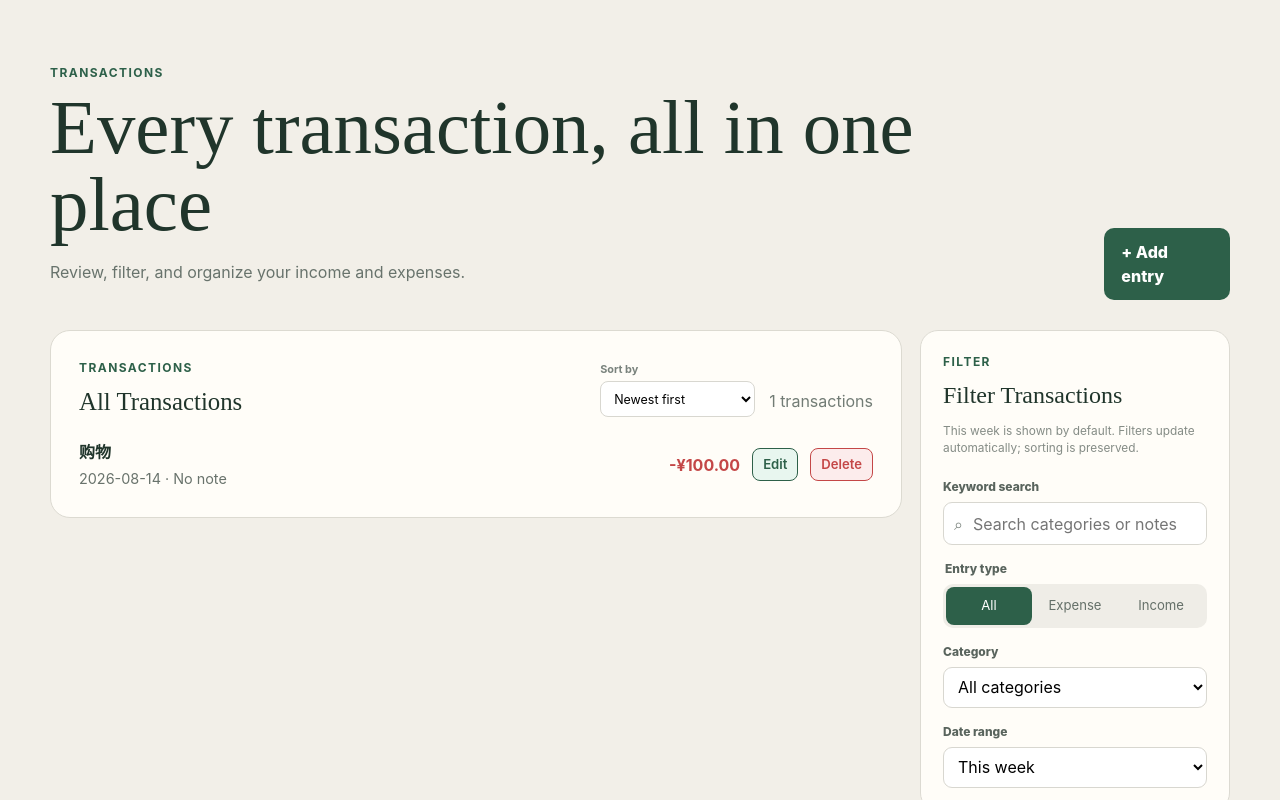
it: RecordsView › 点击编辑后才显示编辑弹层
The image size is (1280, 800).
Step 1. Click the button with test id "edit-transaction" → click(775, 465), box x1=752 y1=448 x2=798 y2=481
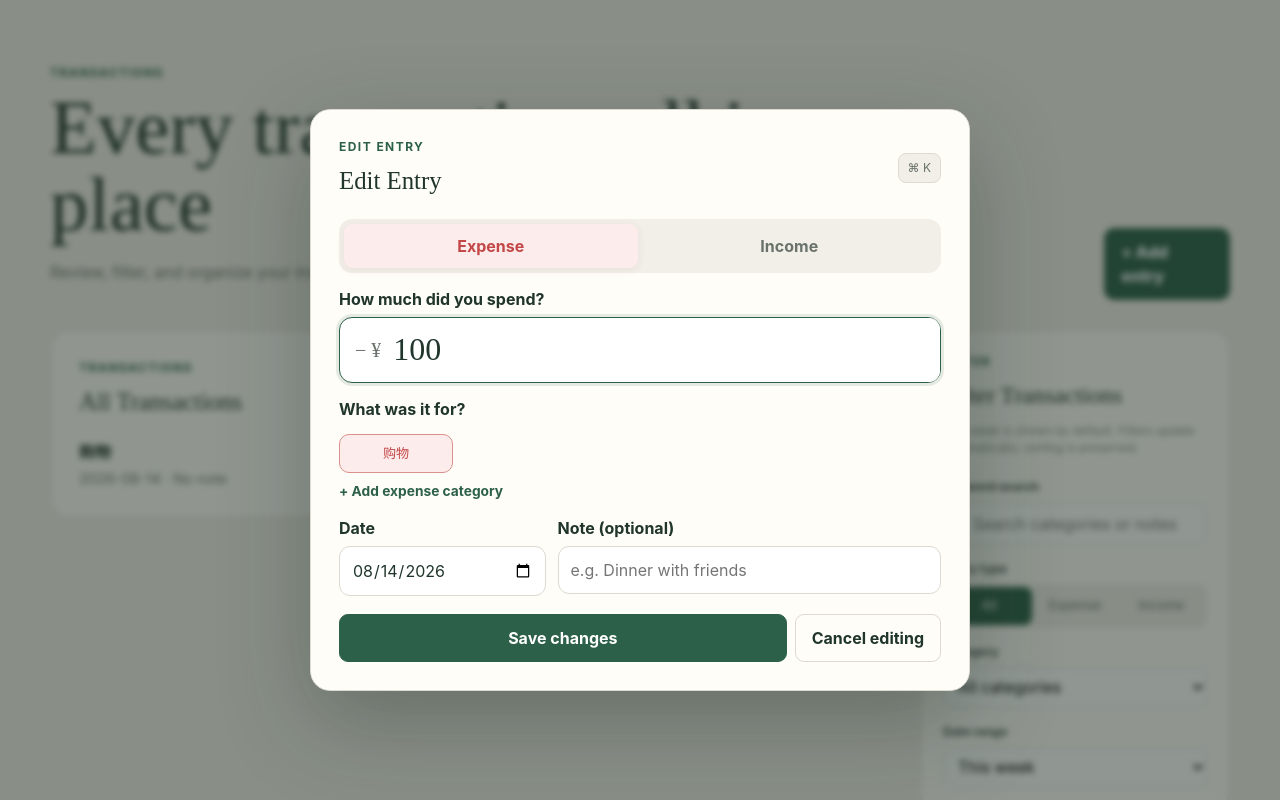
Expected: the element with class "records-edit-overlay" is shown
Expected: the text "EDIT ENTRY" is shown, x1=339 y1=139 x2=424 y2=154
